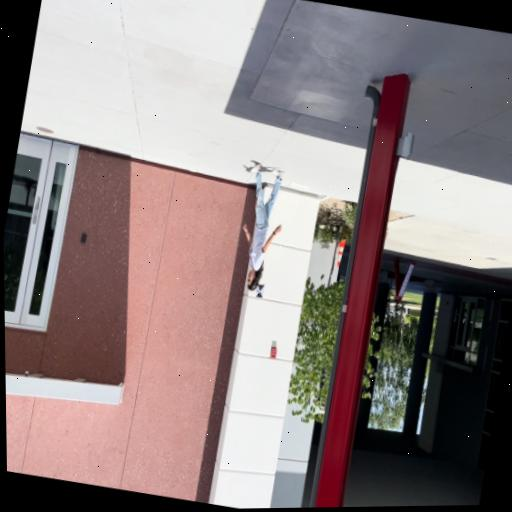target9: (255, 283, 264, 297)
